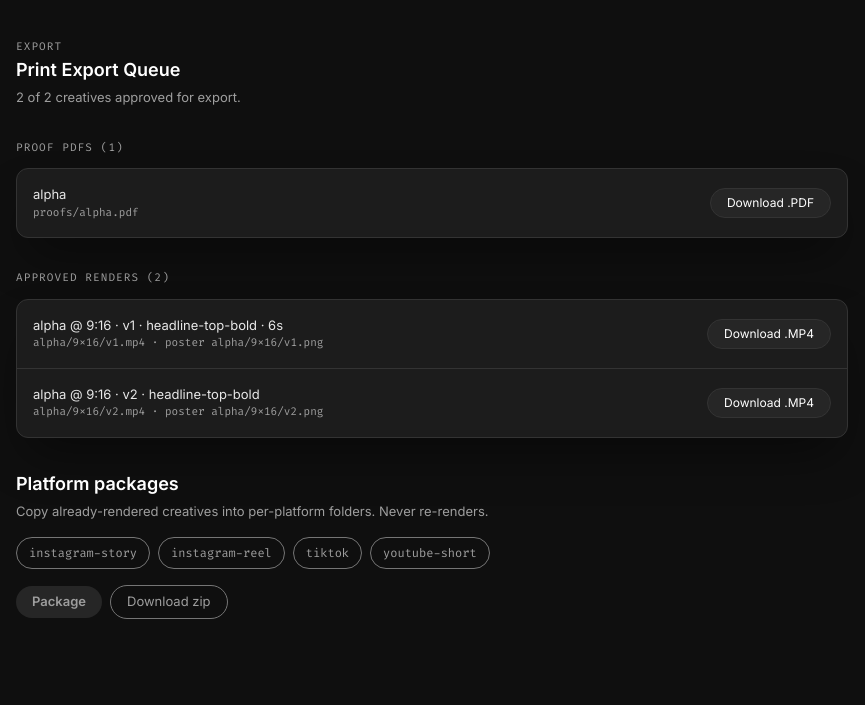
Test: ExportPage — motion › approved motion rows show the duration and link the mp4; motion platforms join the picker
Expected: the text "alpha @ 9:16 · v1 · headline-top-bold · 6s" is shown, [33,316,323,335]
Expected: the text "alpha @ 9:16 · v2 · headline-top-bold" is shown, [33,386,260,402]
Click the button "instagram-reel" at (221, 553), box [158,537,285,569]
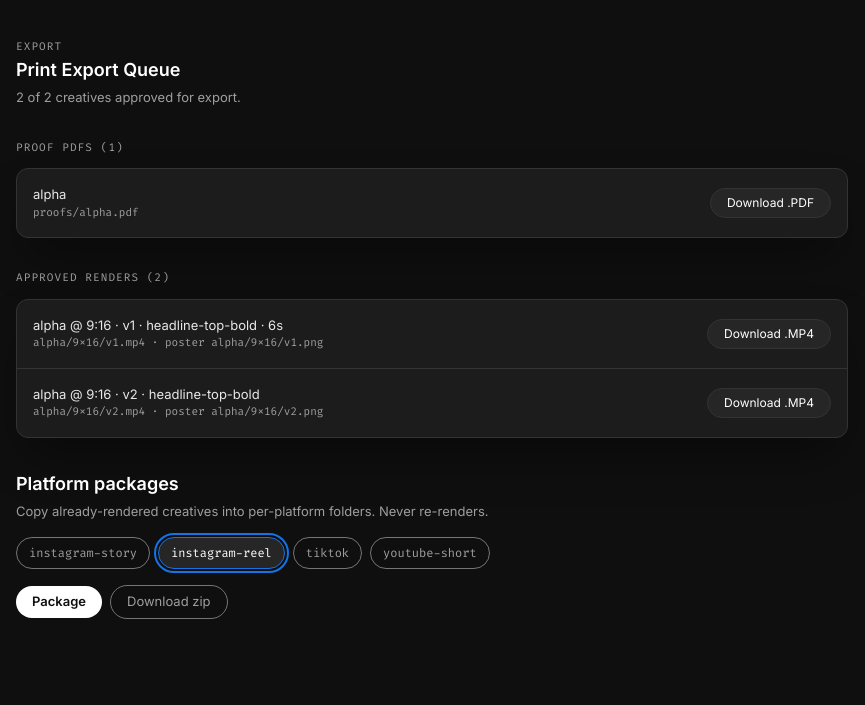
Click the button "Package" at (59, 602), box [16,586,102,618]
(page scrolled)
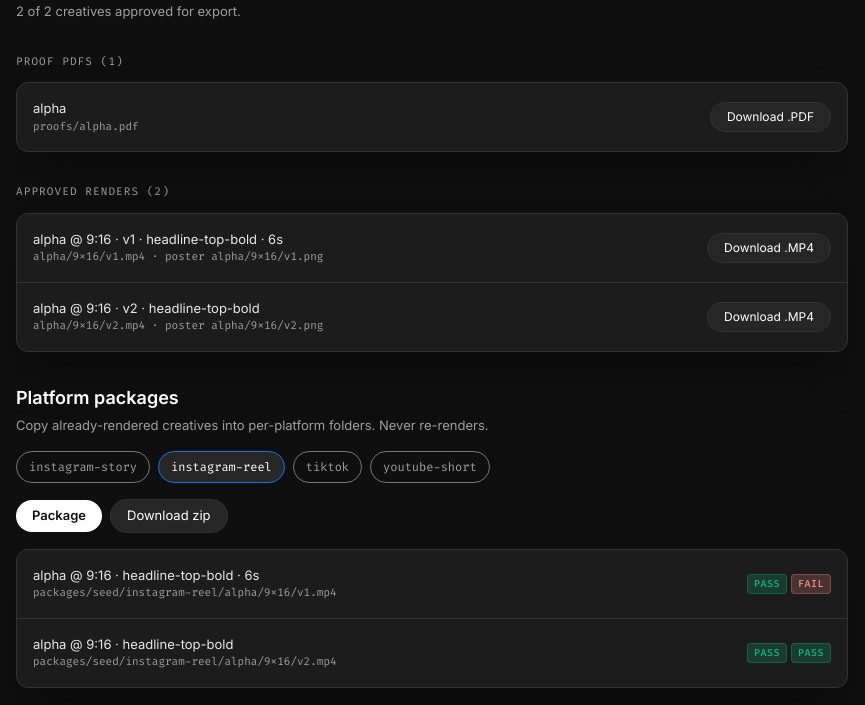
Result: the text "packages/seed/instagram-reel/alpha/9x16/v1.mp4" is shown at [33,585,337,602]
Result: the text "alpha @ 9:16 · headline-top-bold · 6s" is shown at [33,566,259,582]
Result: the text "alpha @ 9:16 · headline-top-bold" is shown at [33,636,233,652]
